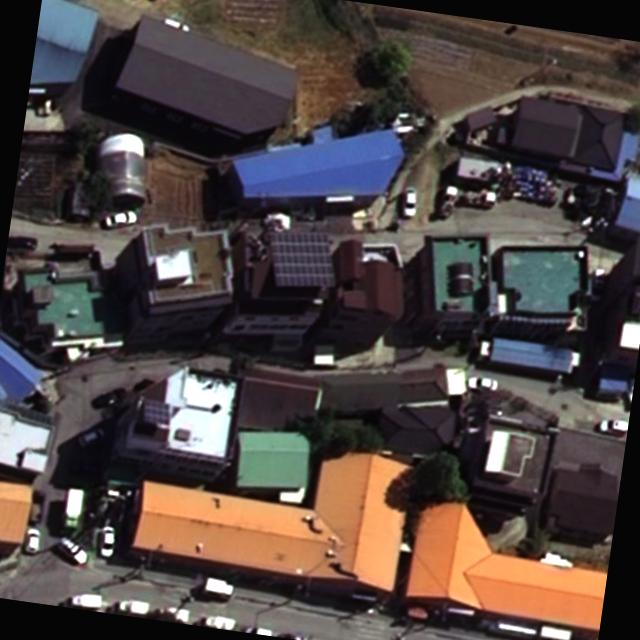solar: (256, 215, 348, 298), (139, 399, 173, 428)
